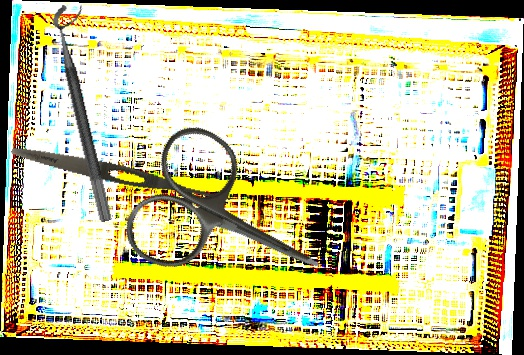Dressing Forceps: (9, 141, 236, 208)
Fixation Ring: (49, 1, 131, 223)
Iris Scissors: (114, 115, 352, 332)
